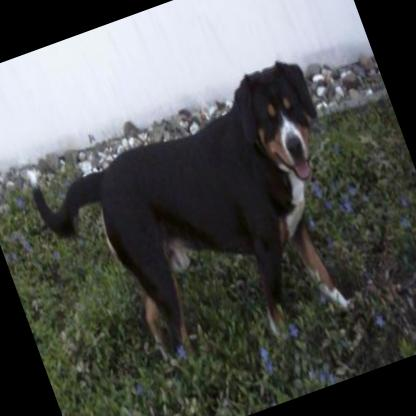EntleBucher: (16, 52, 384, 395)
